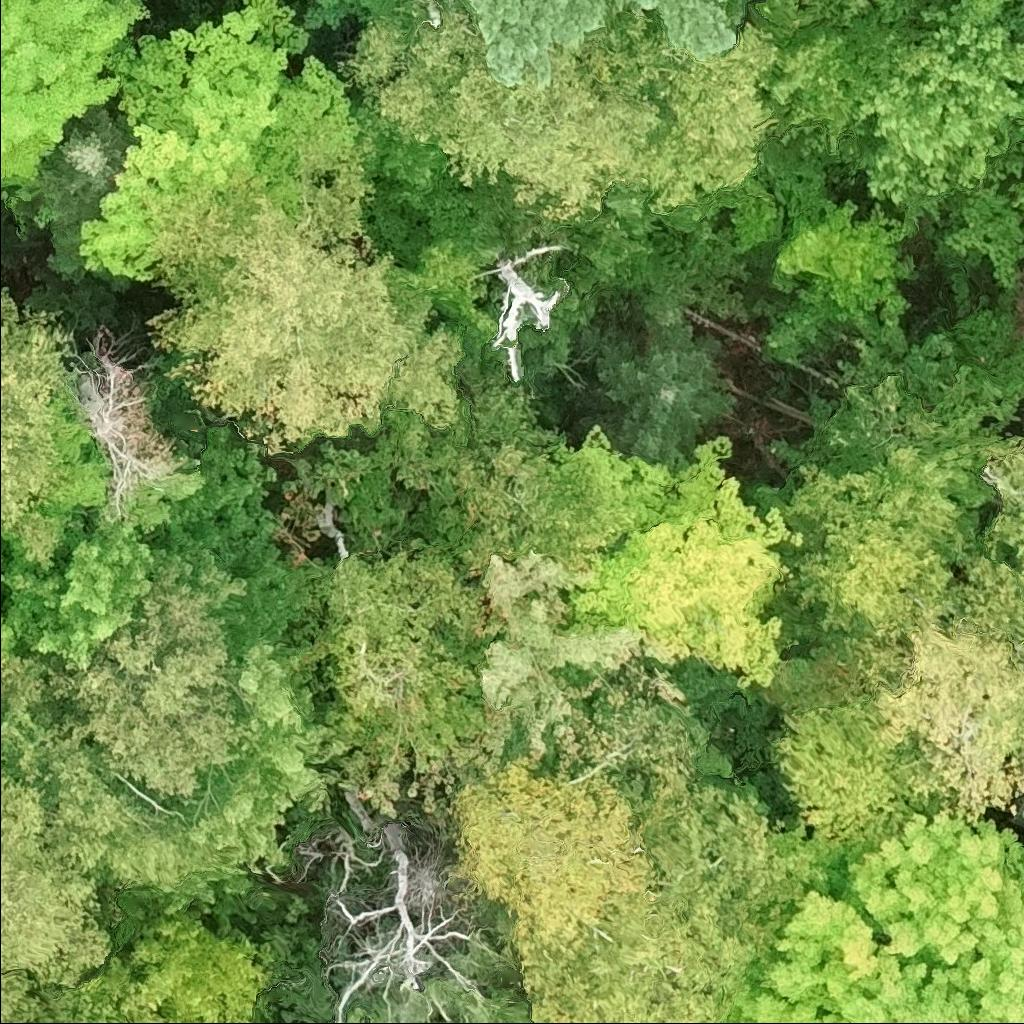crown: (141, 137, 470, 461), (338, 0, 785, 231), (75, 0, 370, 285), (0, 424, 317, 673), (523, 778, 840, 1023), (720, 806, 1023, 1023), (564, 424, 810, 690), (477, 548, 693, 779), (451, 752, 685, 962), (44, 575, 252, 803), (176, 632, 350, 874), (290, 542, 484, 749), (840, 610, 1023, 820), (0, 653, 163, 887), (847, 0, 1023, 208), (323, 793, 482, 1023), (774, 461, 962, 634), (0, 0, 154, 202), (768, 692, 941, 863), (0, 767, 115, 1023), (475, 0, 747, 90), (763, 11, 931, 150), (334, 669, 482, 821), (0, 274, 86, 531), (24, 98, 135, 281), (593, 318, 744, 451), (768, 196, 919, 326), (47, 952, 199, 1023), (102, 819, 233, 894), (934, 180, 1023, 287), (976, 442, 1023, 598), (609, 412, 689, 468), (932, 0, 1022, 27), (8, 988, 74, 1023), (0, 617, 17, 666), (345, 1003, 384, 1023)
